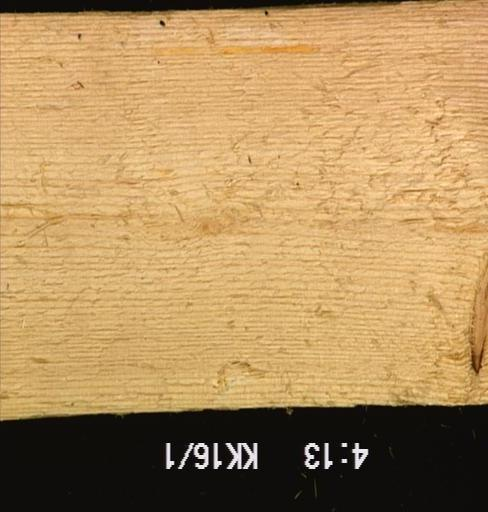split: (400, 187, 438, 193)
